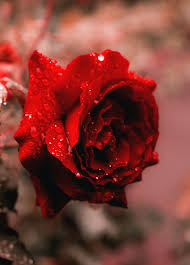rose: (18, 44, 171, 216)
